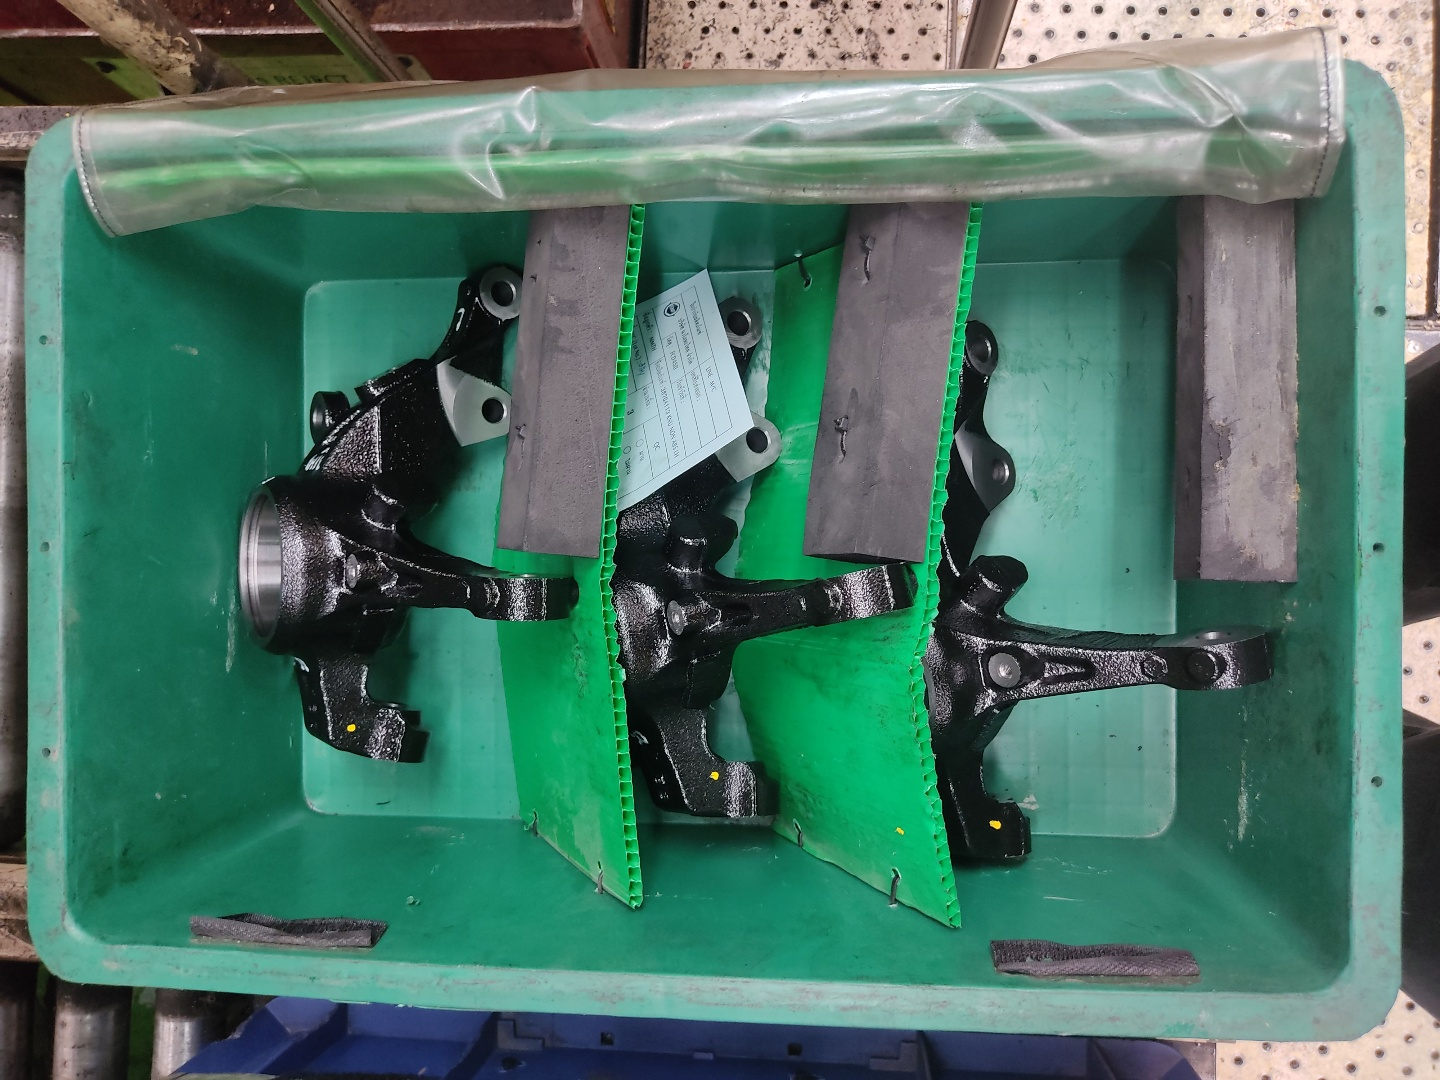non-lh: (922, 309, 1290, 877), (219, 260, 588, 781), (592, 285, 921, 836)
